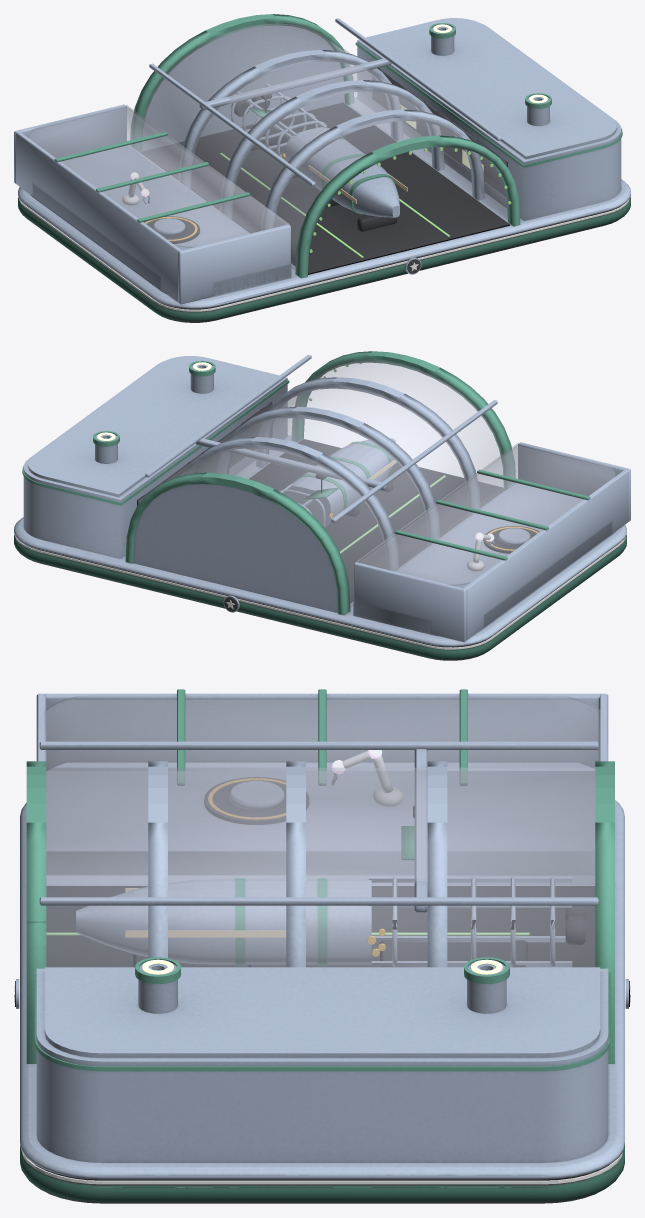
The model's file is SM_Evo_Shipyard.fbx.
3 views of the same model, one above another, from view 1: azimuth 30°, elevation 25°; view 2: azimuth 150°, elevation 25°; view 3: azimuth 270°, elevation 25° (orthographic). The views are drawn at different scales.
Visible parts, largest first — view 1: SMN_Evo_Shipyard, Emblem_Fx_Shipyard, SpinDish_Shipyard; view 2: SMN_Evo_Shipyard, Emblem_Fx_Shipyard; view 3: SMN_Evo_Shipyard, Emblem_Fx_Shipyard, SpinDish_Shipyard.
Part boxes in pixels (bbox=[...]): SMN_Evo_Shipyard: bbox=[14, 14, 630, 322]; Emblem_Fx_Shipyard: bbox=[19, 22, 629, 311]; SpinDish_Shipyard: bbox=[122, 172, 149, 205]; SMN_Evo_Shipyard: bbox=[14, 351, 630, 660]; Emblem_Fx_Shipyard: bbox=[15, 359, 625, 649]; SMN_Evo_Shipyard: bbox=[15, 689, 629, 1203]; Emblem_Fx_Shipyard: bbox=[14, 695, 630, 1184]; SpinDish_Shipyard: bbox=[331, 750, 402, 806].
Bounding box in the file's own units: 2.84 × 0.76 × 1.88.
